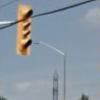Traffic light: (9, 4, 44, 53)
